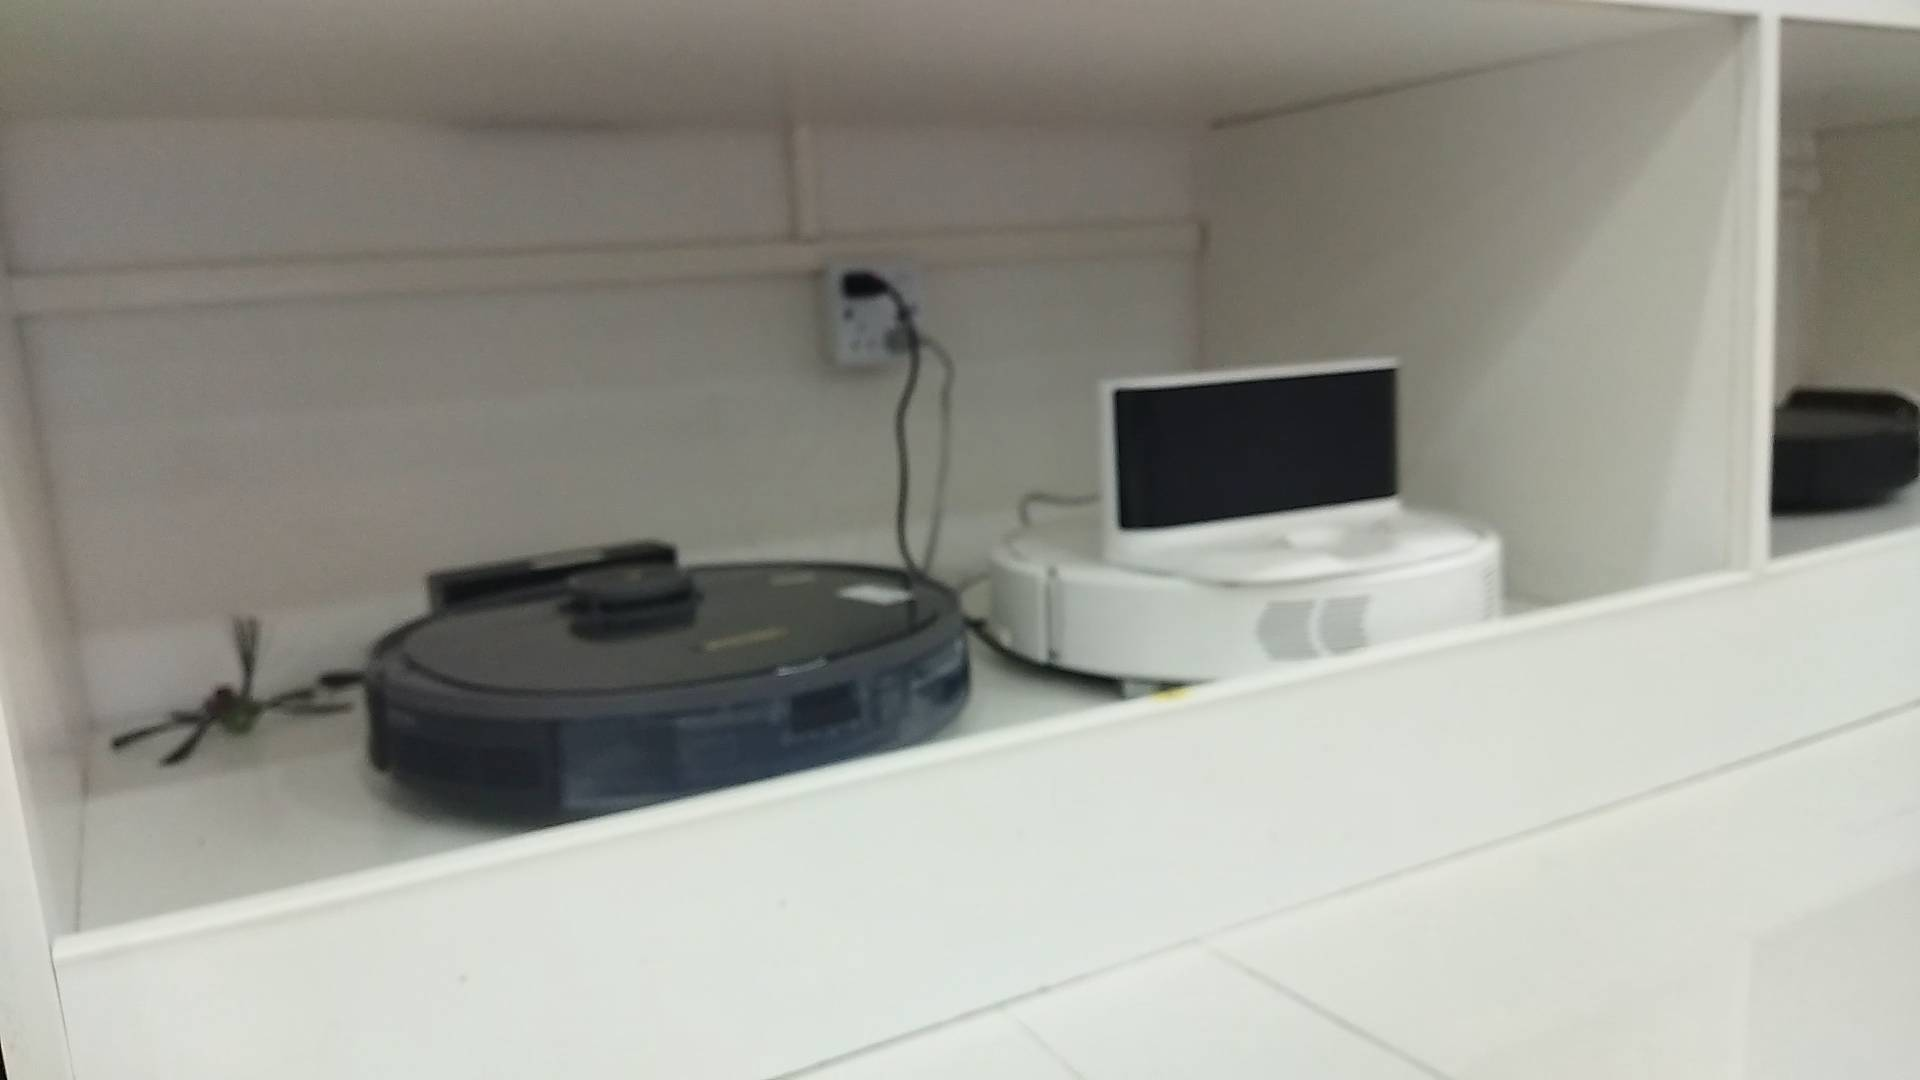recharge seat: (1093, 355, 1482, 585)
